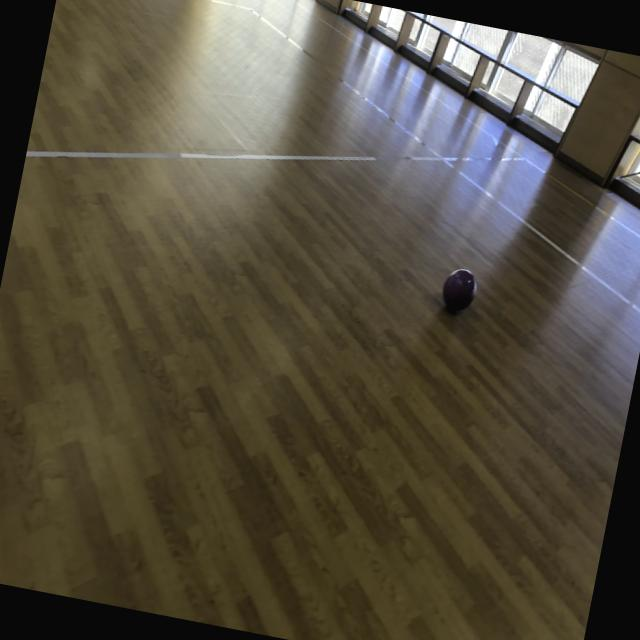purple_ball: (438, 265, 481, 318)
